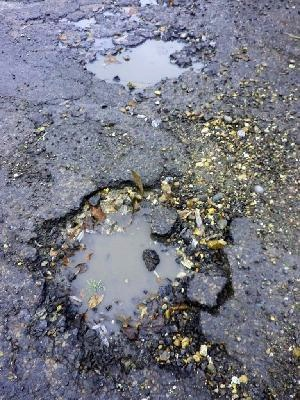pothole: (23, 181, 244, 385), (77, 27, 214, 90)
